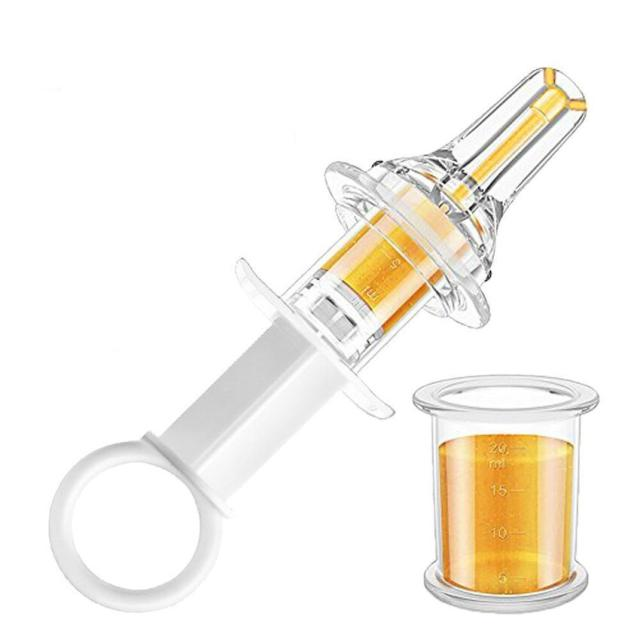syringe: (47, 64, 588, 613)
